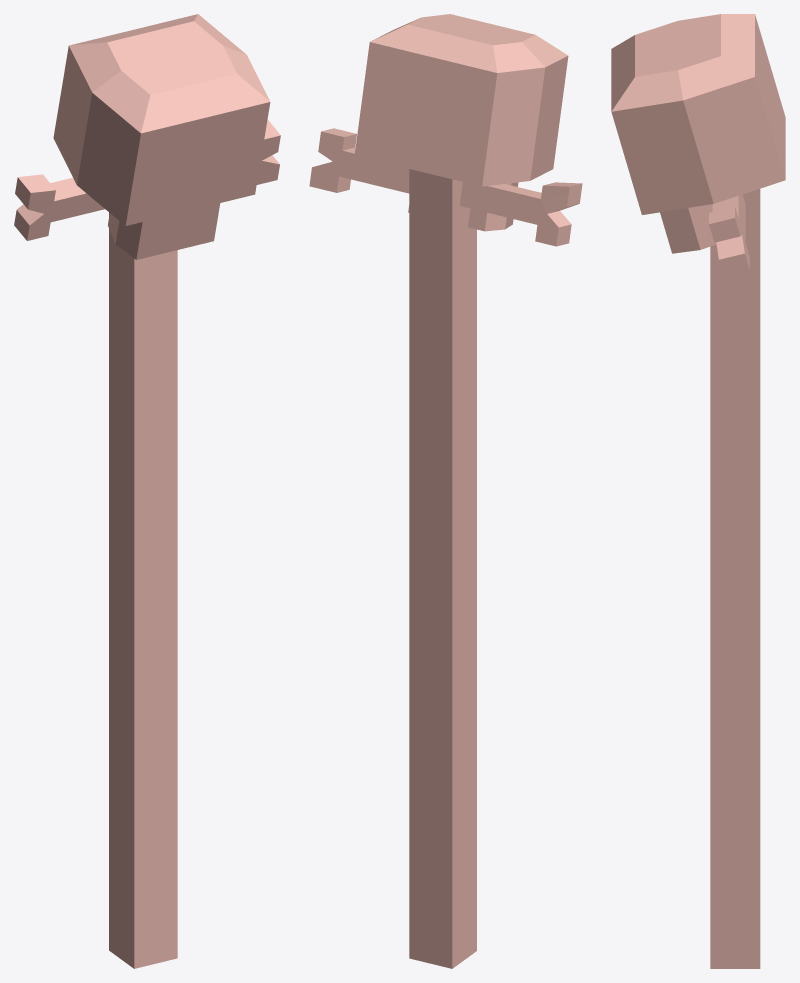
The model's file is Mega_Asset_s_Pack_Cube_305.FBX.
3 views of the same model, side by side, from view 1: azimuth 30°, elevation 25°; view 2: azimuth 150°, elevation 25°; view 3: azimuth 270°, elevation 25° (orthographic).
Visible parts, largest first — view 1: Mega_Asset_s_Pack_Cube_305; view 2: Mega_Asset_s_Pack_Cube_305; view 3: Mega_Asset_s_Pack_Cube_305.
Boxes of the visible parts, x1=… form: Mega_Asset_s_Pack_Cube_305: x1=14, y1=14, x2=280, y2=968; Mega_Asset_s_Pack_Cube_305: x1=309, y1=14, x2=582, y2=968; Mega_Asset_s_Pack_Cube_305: x1=611, y1=14, x2=785, y2=968.
Size of what is drawn, in the model's own units: 60.59 by 35.98 by 210.
